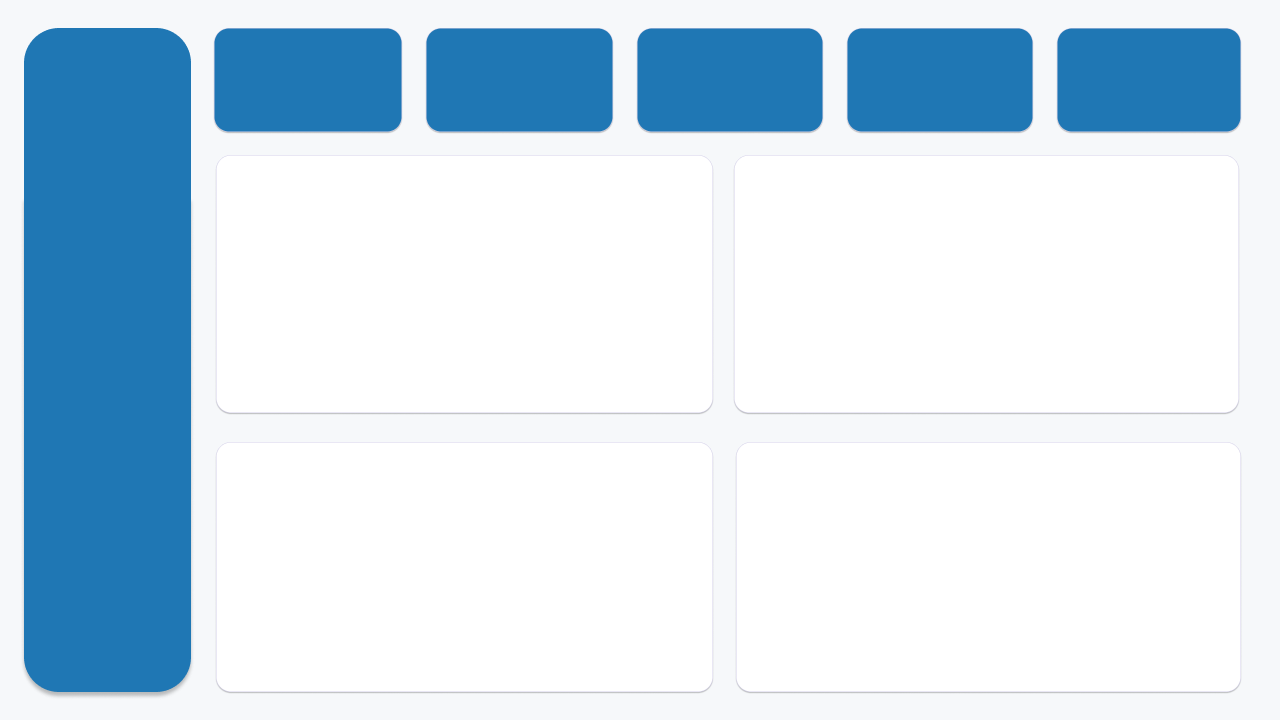

This screenshot's page, from the dashboard's own definition file:
{"tool":"powerbi","page":{"name":"Visão Geral","canvas":[1280,720],"ordinal":0},"visuals":[{"type":"card","title":"Vendas","fields":{"Values":["Orders.Total Sales"]},"box":[849.4,37,179.8,83.7],"z":0},{"type":"card","title":"Lucro","fields":{"Values":["Orders.Total Profit"]},"box":[639.5,37,178.4,83.7],"z":1000},{"type":"card","title":"Margem de Lucro","fields":{"Values":["Orders.Profit Margin"]},"box":[1064.8,37,167.4,79.6],"z":2000},{"type":"card","title":"Pedidos","fields":{"Values":["Orders.Total Orders"]},"box":[218.2,37,178.4,83.7],"z":3000},{"type":"card","title":"Ticket Médio","fields":{"Values":["Orders.Averege Order Value"]},"box":[433.6,37,172.9,83.7],"z":4000},{"type":"clusteredBarChart","title":"Vendas por Categoria","fields":{"Category":["Orders.Category"],"Y":["Orders.Total Sales"]},"box":[738.3,160.5,494,238.8],"z":5000},{"type":"clusteredBarChart","title":"Lucro por Subcategoria","fields":{"Category":["Orders.Sub-Category"],"Y":["Orders.Total Profit"]},"box":[229.2,160.5,474.8,238.8],"z":6000},{"type":"clusteredBarChart","title":"Margem de Lucro por Subcategoria","fields":{"Category":["Orders.Sub-Category"],"Y":["Orders.Profit Margin"]},"box":[229.2,447.3,474.8,233.3],"z":7000},{"type":"clusteredBarChart","title":"Vendas por Região","fields":{"Y":["Orders.Total Sales"],"Category":["Orders.Region"]},"box":[747.9,447.3,480.3,236],"z":8000},{"type":"slicer","fields":{"Values":["Orders.Order Date.Variation.Date Hierarchy.Year"]},"box":[35.2,53.5,145.5,63.1],"z":9000},{"type":"slicer","fields":{"Values":["Orders.Order Date.Variation.Date Hierarchy.Month"]},"box":[35.2,141.3,145.5,63.1],"z":10000},{"type":"slicer","fields":{"Values":["Orders.Category"]},"box":[35.2,227.8,145.5,63.1],"z":11000},{"type":"slicer","fields":{"Values":["Orders.Sub-Category"]},"box":[35.2,312.9,145.5,63.1],"z":12000},{"type":"slicer","fields":{"Values":["Orders.Ship Mode"]},"box":[35.2,399.3,145.5,63.1],"z":13000},{"type":"slicer","fields":{"Values":["Orders.Region"]},"box":[33.6,483.6,146.4,63.1],"z":14000},{"type":"actionButton","title":"fddgdfgfdgdfbdb","box":[35,565.8,135.1,21.7],"z":15000}]}

Visuals, with their boxes in screenshot pixels (x1, y1, x2, y2), scaled from the page's 1280x720 canvas onto the 1280x720 screenshot:
"Vendas" card: (left=849, top=37, right=1029, bottom=121)
"Lucro" card: (left=640, top=37, right=818, bottom=121)
"Margem de Lucro" card: (left=1065, top=37, right=1232, bottom=117)
"Pedidos" card: (left=218, top=37, right=397, bottom=121)
"Ticket Médio" card: (left=434, top=37, right=606, bottom=121)
"Vendas por Categoria" clusteredBarChart: (left=738, top=160, right=1232, bottom=399)
"Lucro por Subcategoria" clusteredBarChart: (left=229, top=160, right=704, bottom=399)
"Margem de Lucro por Subcategoria" clusteredBarChart: (left=229, top=447, right=704, bottom=681)
"Vendas por Região" clusteredBarChart: (left=748, top=447, right=1228, bottom=683)
slicer - Orders.Order Date.Variation.Date Hierarchy.Year: (left=35, top=54, right=181, bottom=117)
slicer - Orders.Order Date.Variation.Date Hierarchy.Month: (left=35, top=141, right=181, bottom=204)
slicer - Orders.Category: (left=35, top=228, right=181, bottom=291)
slicer - Orders.Sub-Category: (left=35, top=313, right=181, bottom=376)
slicer - Orders.Ship Mode: (left=35, top=399, right=181, bottom=462)
slicer - Orders.Region: (left=34, top=484, right=180, bottom=547)
"fddgdfgfdgdfbdb" actionButton: (left=35, top=566, right=170, bottom=588)
